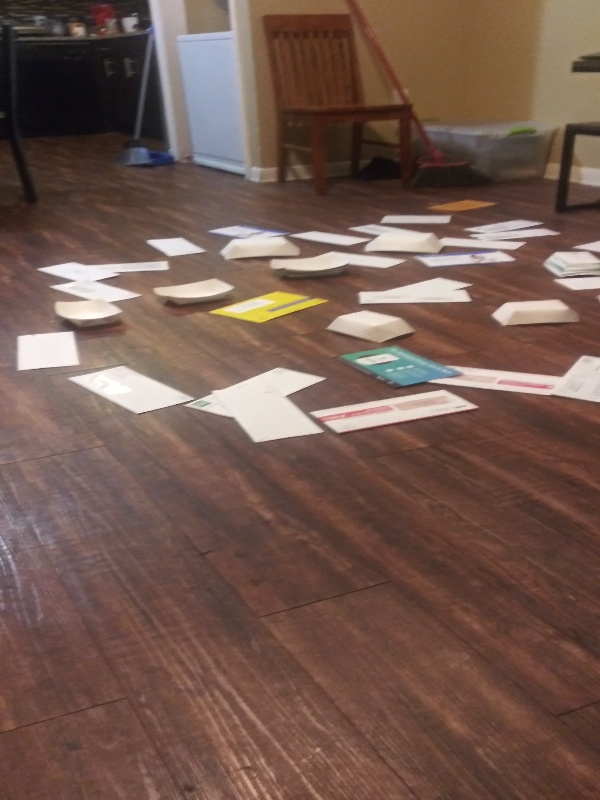plate: (320, 309, 422, 348), (488, 296, 584, 335), (50, 292, 124, 333), (261, 249, 352, 282), (148, 276, 238, 309), (214, 233, 303, 266), (358, 229, 444, 259), (537, 249, 600, 281)
